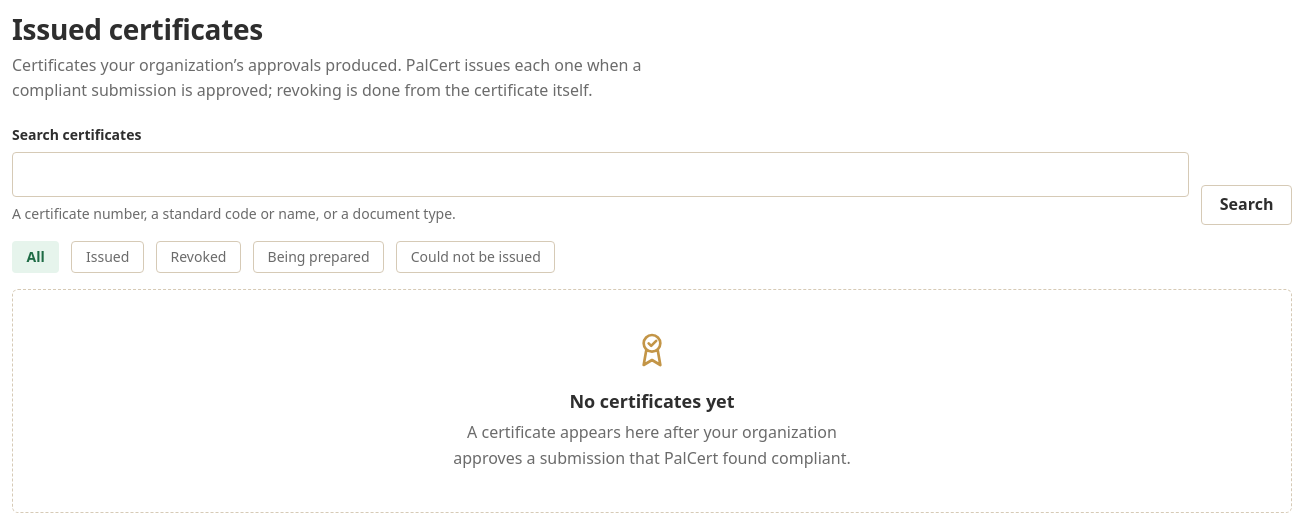
Test: Organization certificates › distinguishes an empty register from a search with no matches
Check: the heading "No certificates yet" is shown, box [569, 390, 735, 412]
Click the button "Could not be issued" at x=476, y=257, box [396, 241, 555, 273]
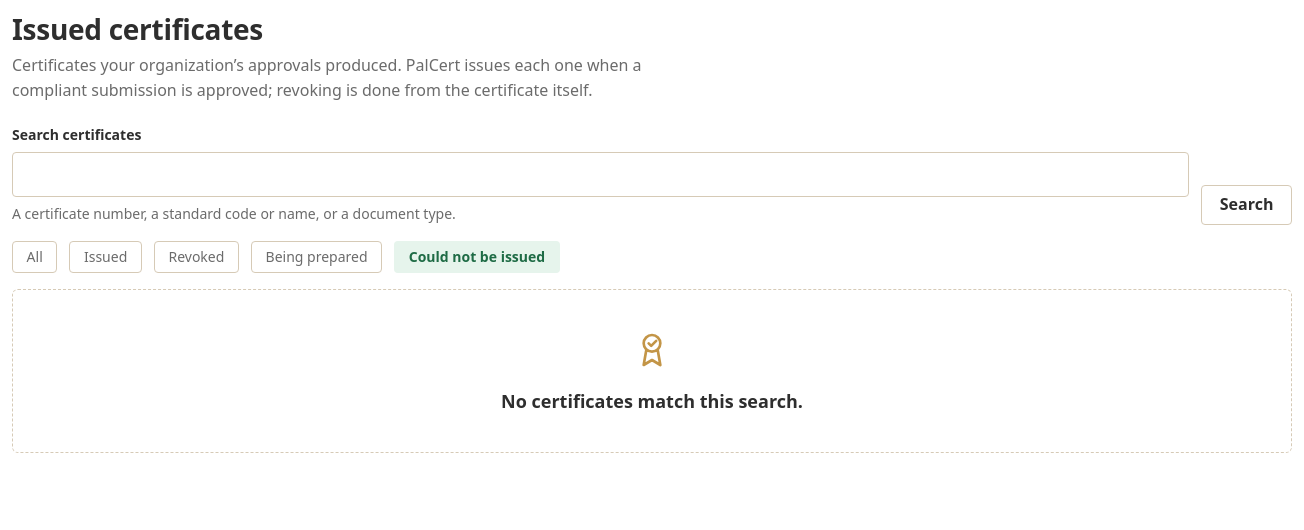
Check: the heading "No certificates match this search." is shown, box [501, 390, 803, 412]
